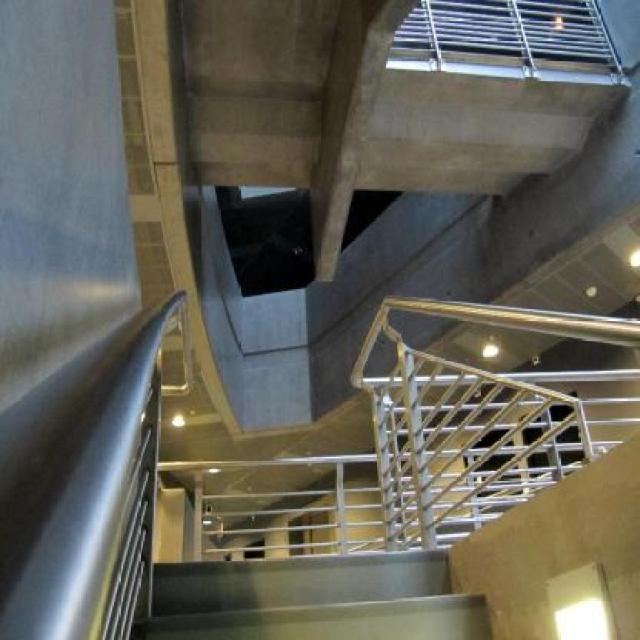stair: (146, 544, 492, 640)
